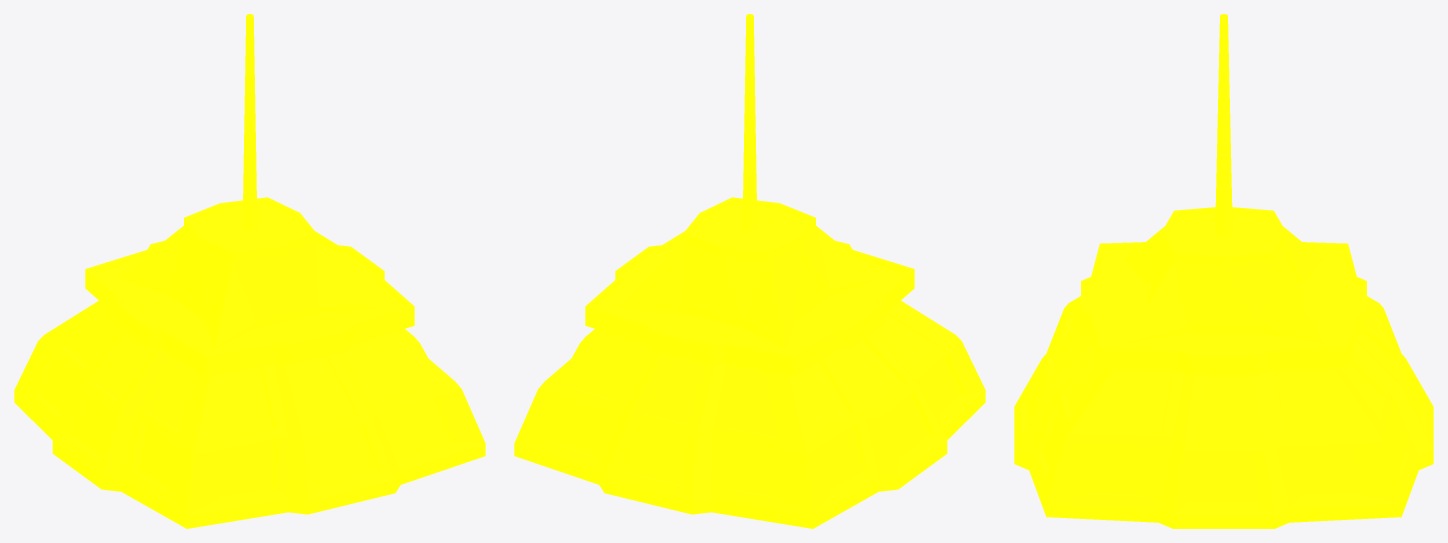
Rendered from skyscraper2-part-top.glb.
3 views of the same model, side by side, from view 1: azimuth 30°, elevation 25°; view 2: azimuth 150°, elevation 25°; view 3: azimuth 270°, elevation 25° (orthographic). The views are drawn at different scales.
Visible parts, largest first — view 1: skyscraper2-part-top; view 2: skyscraper2-part-top; view 3: skyscraper2-part-top.
Part boxes in pixels (x1,y1,x2,y2): skyscraper2-part-top: (14, 14, 485, 528); skyscraper2-part-top: (514, 14, 985, 528); skyscraper2-part-top: (1014, 14, 1433, 528).
Size of the model in its own units: 13.92 by 15.92 by 14.19.
1 material, 1 textured.
